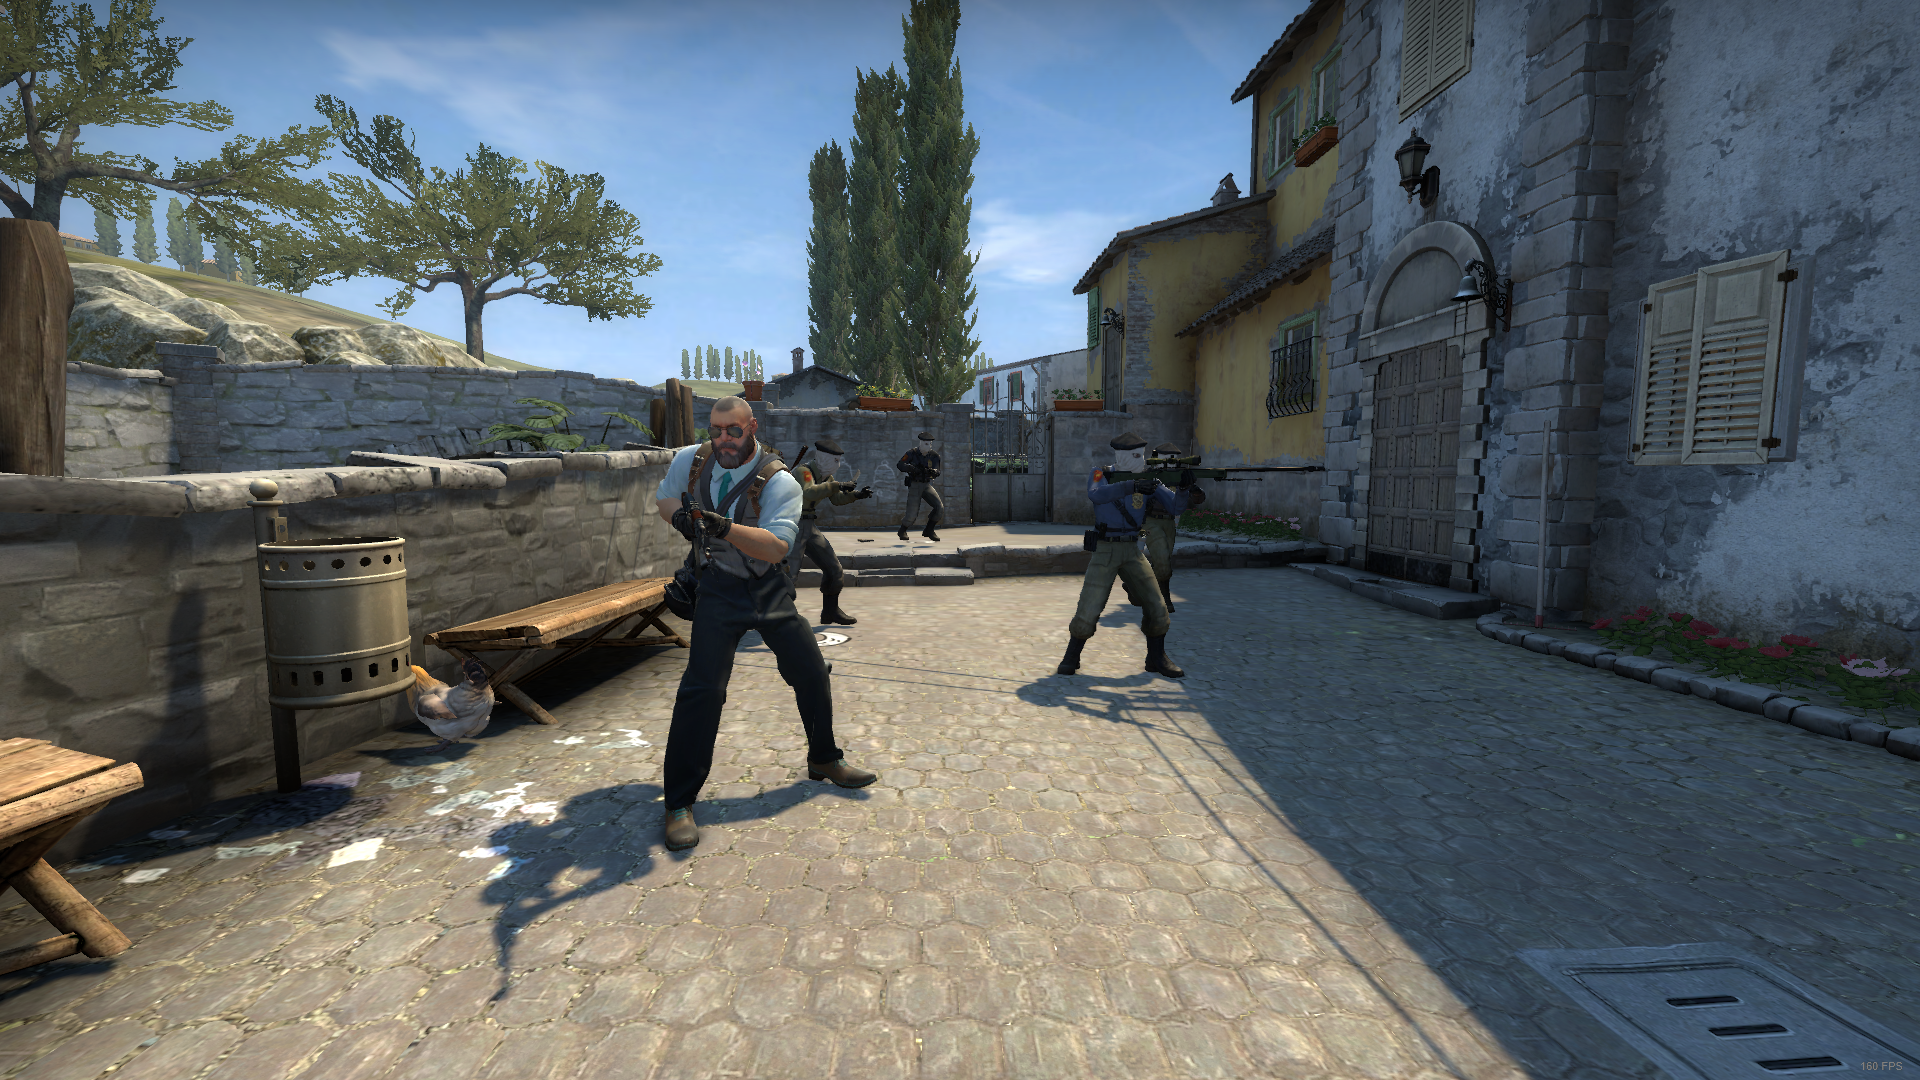t: (1056, 433, 1197, 678), (771, 439, 874, 625), (1135, 442, 1207, 622), (895, 430, 945, 543)
